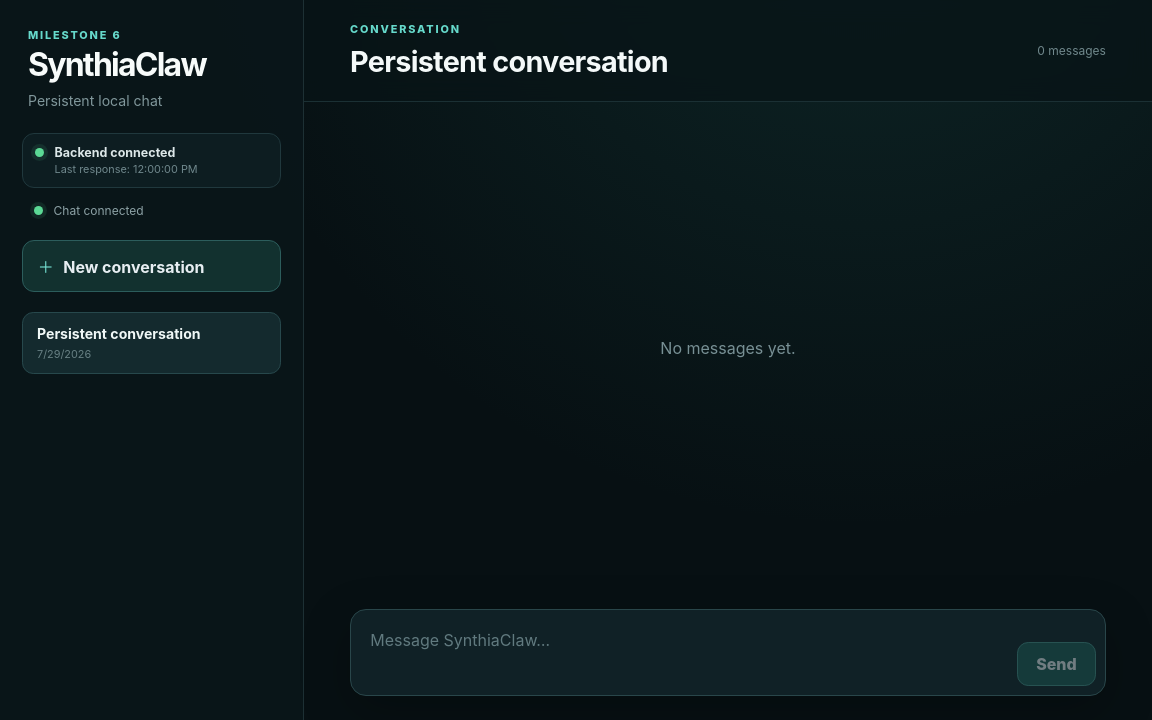
Scenario: SynthiaClaw chat workspace › shows an indicator when the remember tool updates memory
Expected: the heading "Persistent conversation" is shown, [350,44,668,79]
Step 1. Type "Remember that I prefer dark mode." into the text box labelled "Message" → (684, 653), box [360,619,1007,686]
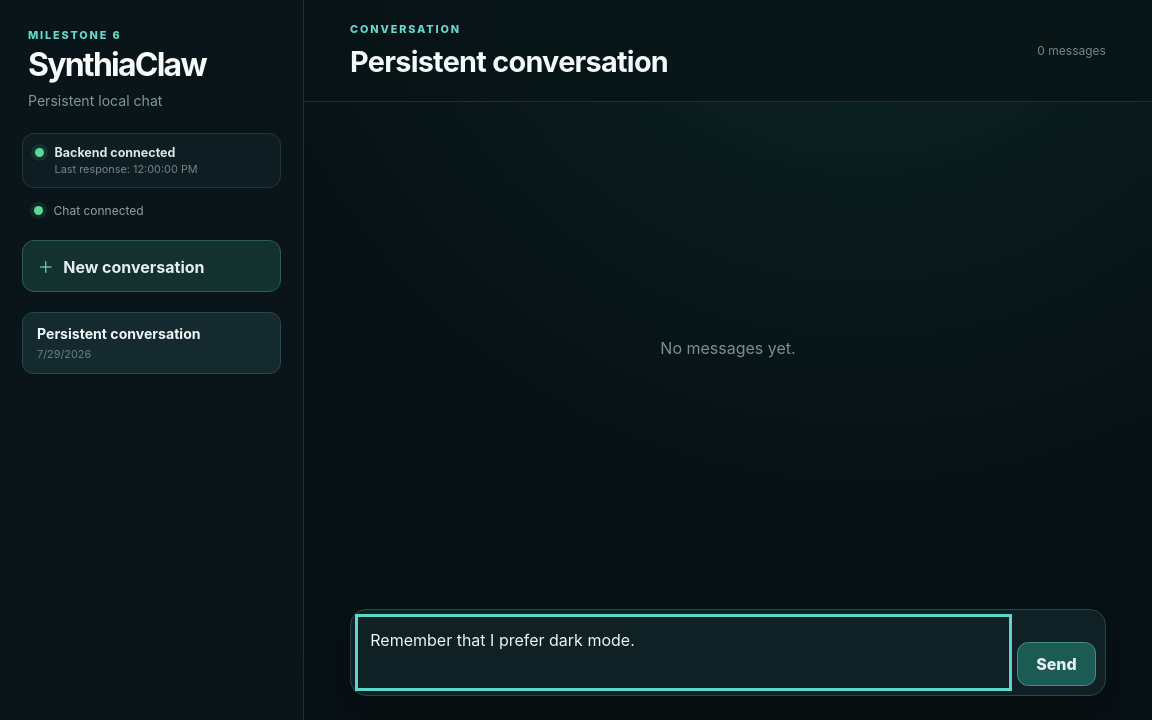
Step 2. Click the button with aria-label "Send message" → (1056, 664), box [1017,642,1096,686]
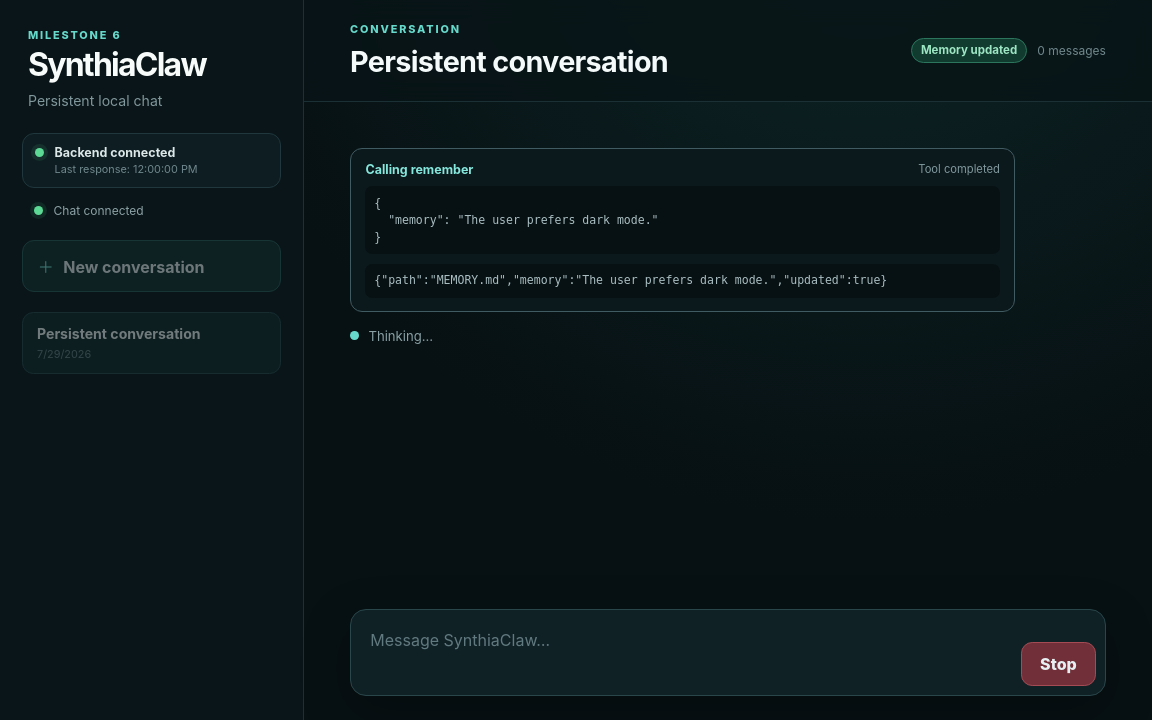
Expected: the text "Memory updated" is shown, [911,38,1027,63]
